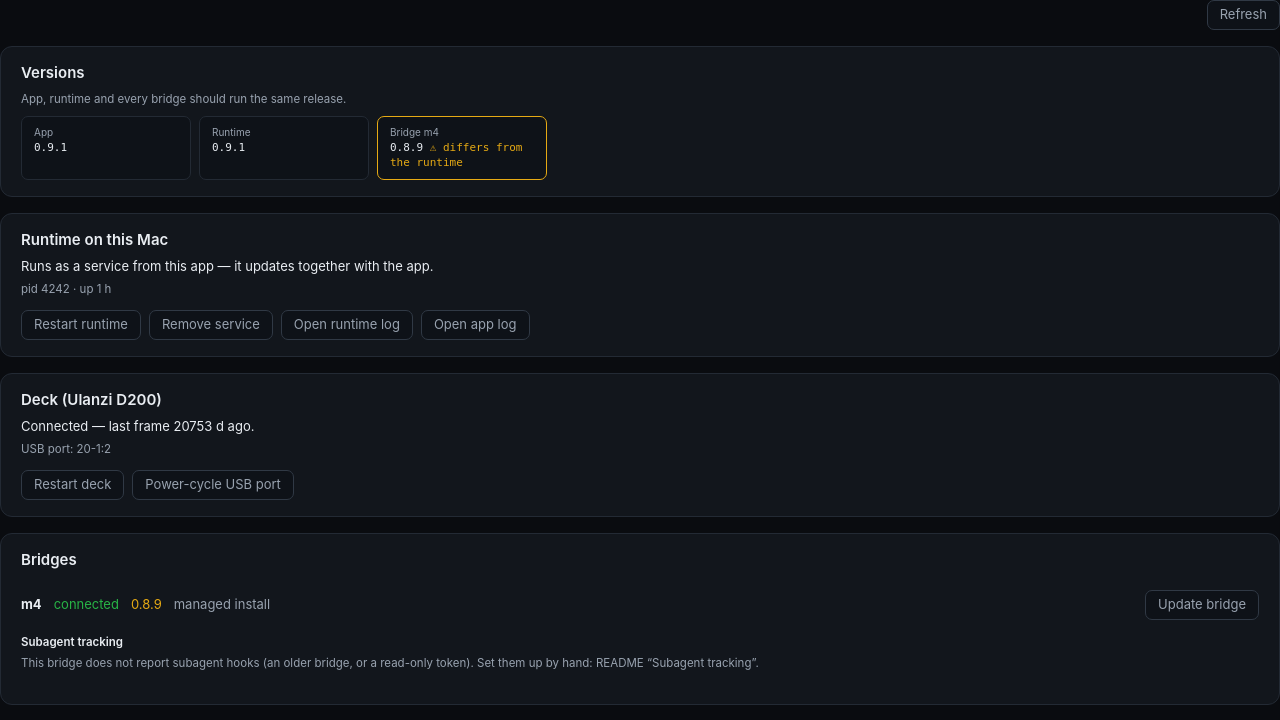
MaintenanceSection › shows the exact command with a copy button when power-cycle needs admin
Click the button "Power-cycle USB port" at (213, 485), box [132, 470, 294, 500]
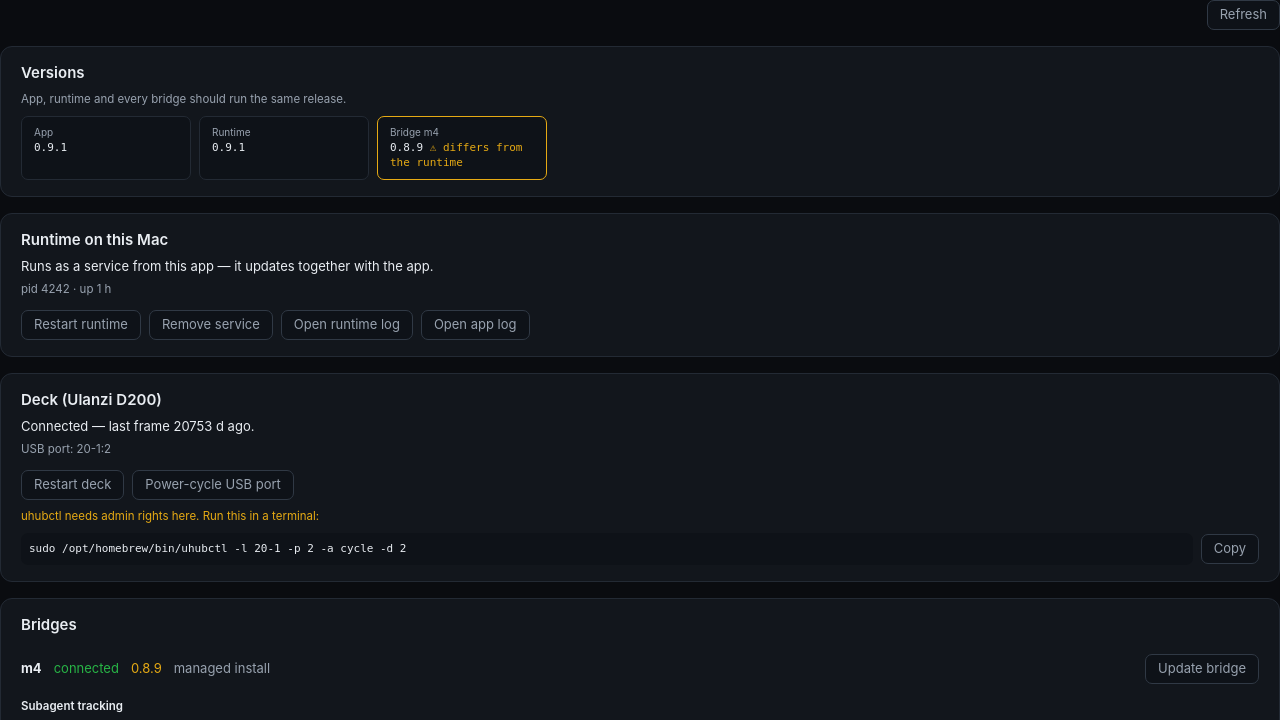
expect the text "sudo /opt/homebrew/bin/uhubctl -l 20-1 -p 2 -a cycle -d 2" is shown: met, box [21, 533, 1193, 565]
